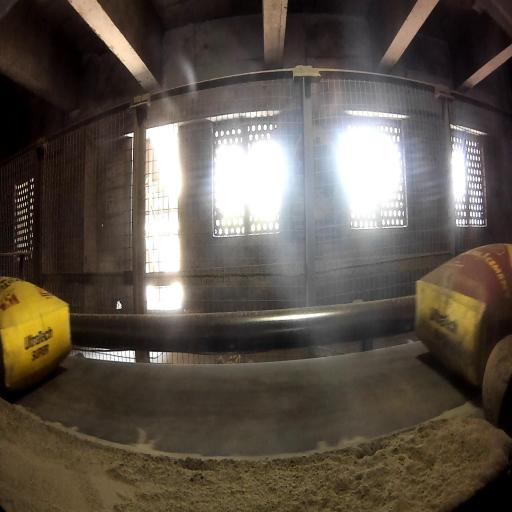c-belt-sack-count: (415, 243, 512, 386), (0, 277, 71, 390)
